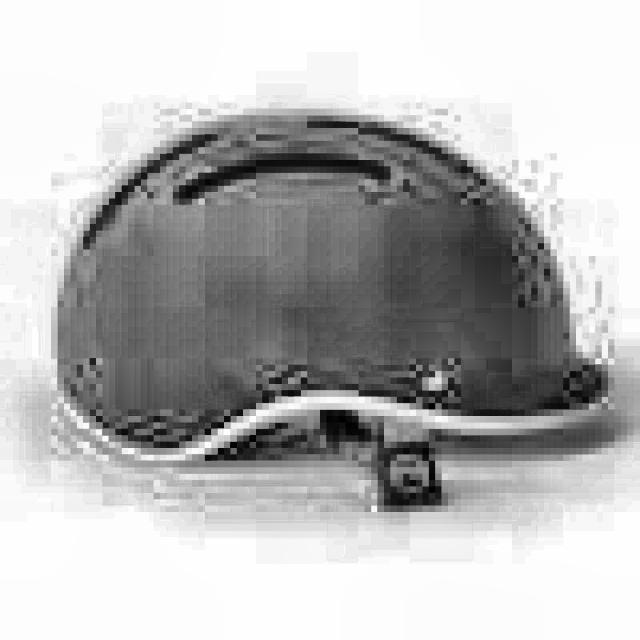Helmet: (49, 103, 626, 514)
